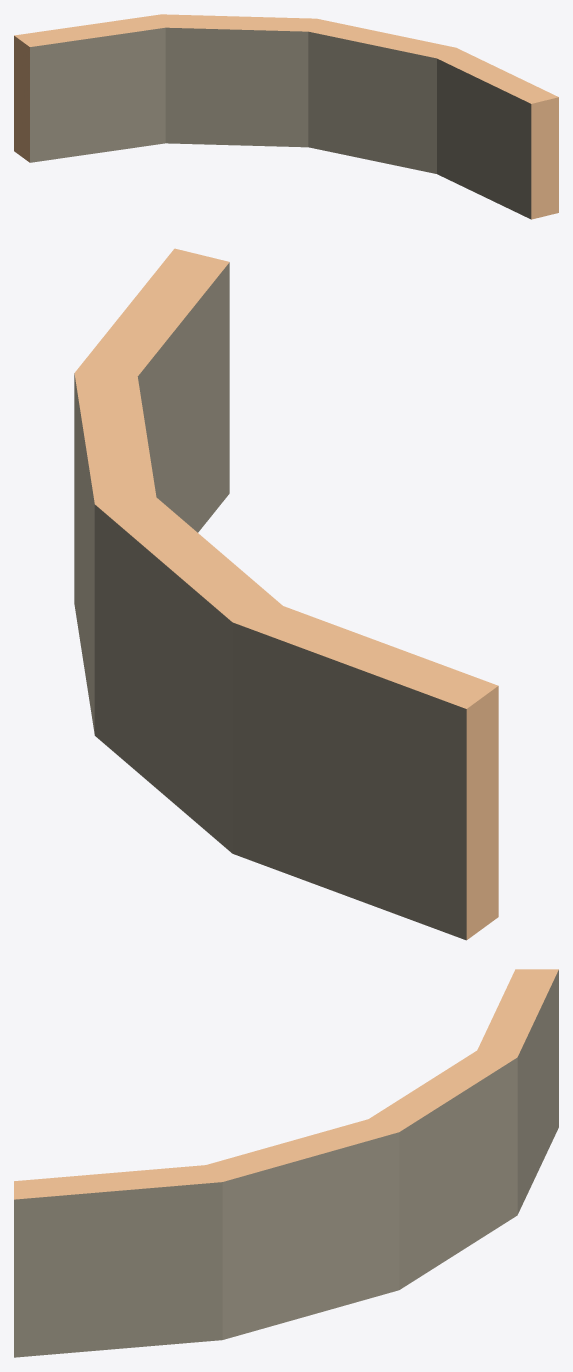
Rendered from Tiered_Retaining_Wall_Flat_Curve_3x3_Mid.glb.
3 renders of one model, top to bottom at view 1: azimuth 30°, elevation 25°; view 2: azimuth 150°, elevation 25°; view 3: azimuth 270°, elevation 25°, orthographic. The views are drawn at different scales.
Parts seen in each view (by area): view 1: Tiered_Retaining_Wall_Flat_Curve_3x3_Mid; view 2: Tiered_Retaining_Wall_Flat_Curve_3x3_Mid; view 3: Tiered_Retaining_Wall_Flat_Curve_3x3_Mid.
Part boxes in pixels (<box>): Tiered_Retaining_Wall_Flat_Curve_3x3_Mid: <box>14,14,558,219</box>; Tiered_Retaining_Wall_Flat_Curve_3x3_Mid: <box>74,248,498,940</box>; Tiered_Retaining_Wall_Flat_Curve_3x3_Mid: <box>14,969,558,1357</box>.
Size of the model in its own units: 312 by 100 by 313.
